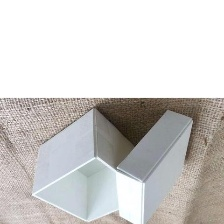book: (28, 105, 148, 223), (111, 106, 198, 224)
